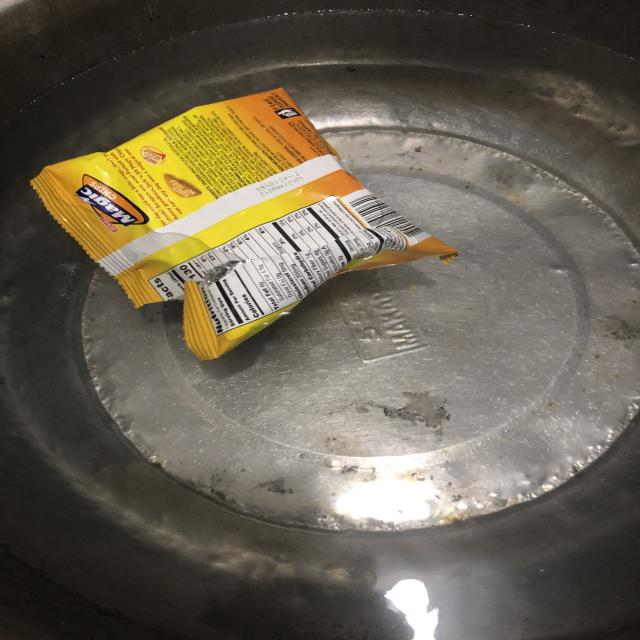Plastic Wrapper: (31, 89, 457, 359)
